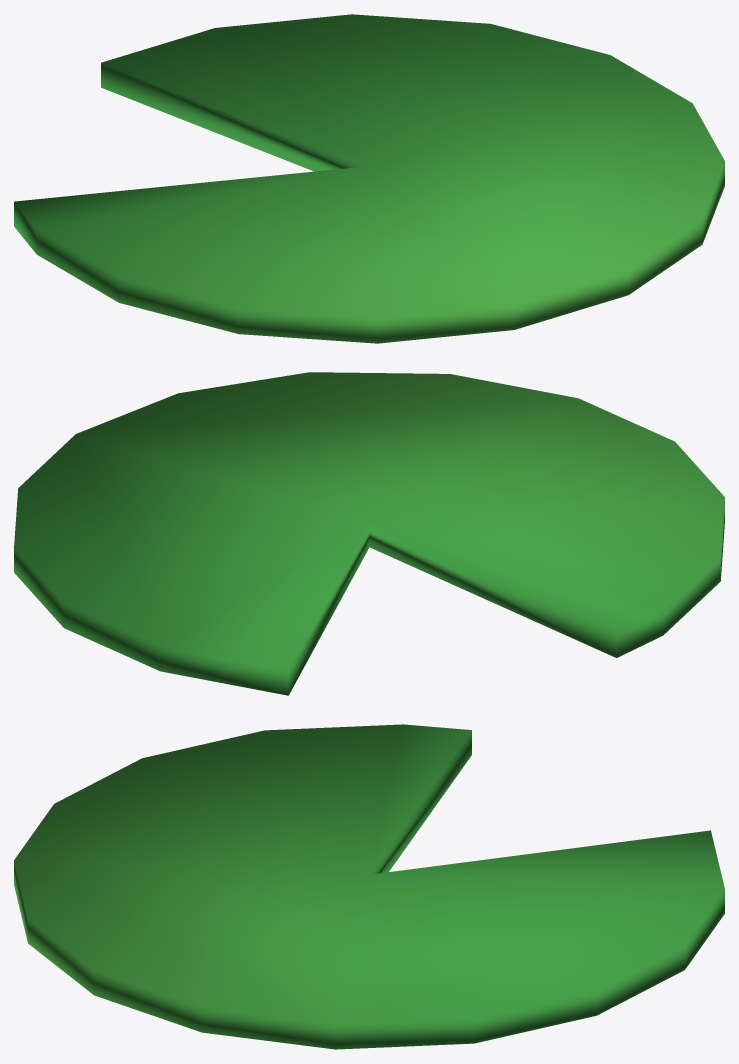
The model's file is lilypad-s.fbx.
3 renders of one model, top to bottom at view 1: azimuth 30°, elevation 25°; view 2: azimuth 150°, elevation 25°; view 3: azimuth 270°, elevation 25°, orthographic.
Parts seen in each view (by area): view 1: Circle.001; view 2: Circle.001; view 3: Circle.001.
Boxes of the visible parts, box(x1,y1,x2,y2) form: Circle.001: box(14, 14, 724, 343); Circle.001: box(14, 372, 724, 695); Circle.001: box(14, 724, 724, 1049).
Bounding box in the file's own units: 15.37 × 0.5881 × 15.37.
